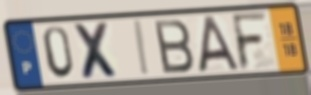0: (40, 25, 75, 81)
A: (197, 14, 241, 75)
B: (151, 17, 196, 76)
F: (229, 10, 270, 73)
I: (133, 18, 152, 78)
X: (70, 20, 123, 82)
